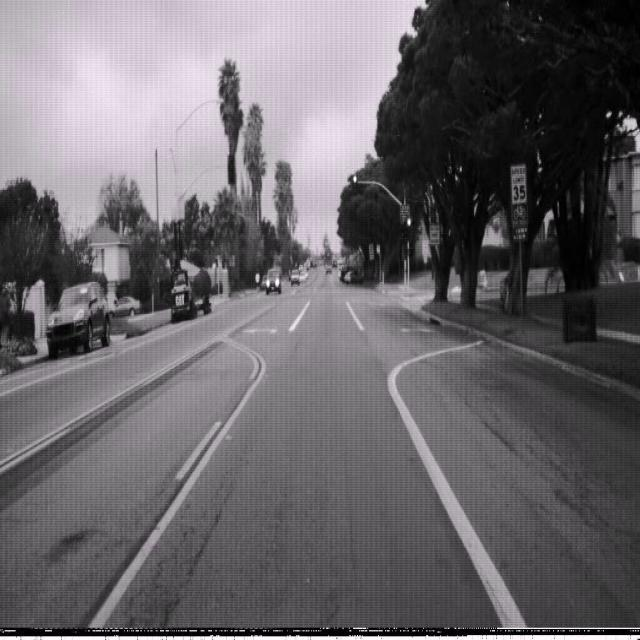speedLimit35: (510, 162, 528, 206)
